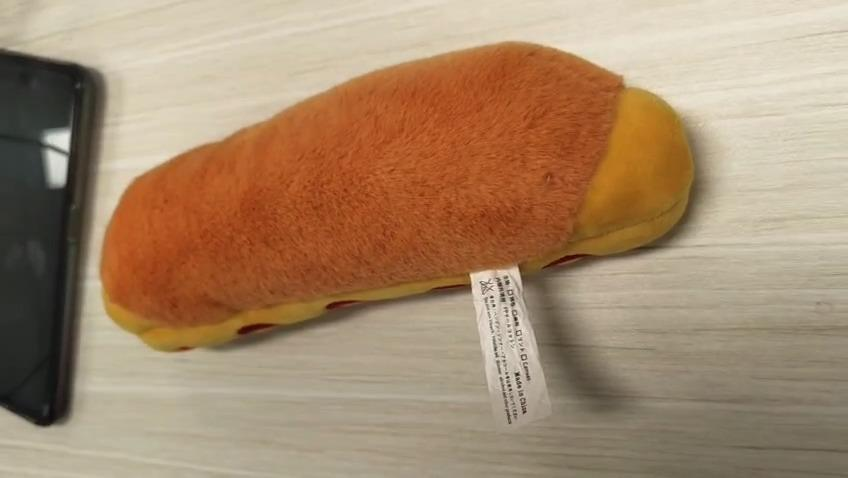hotdog: (99, 40, 695, 351)
